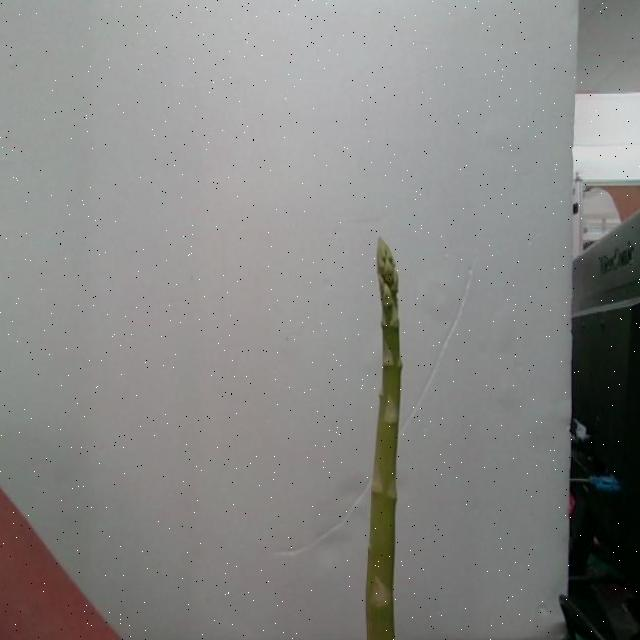aspargus: (367, 239, 406, 640)
